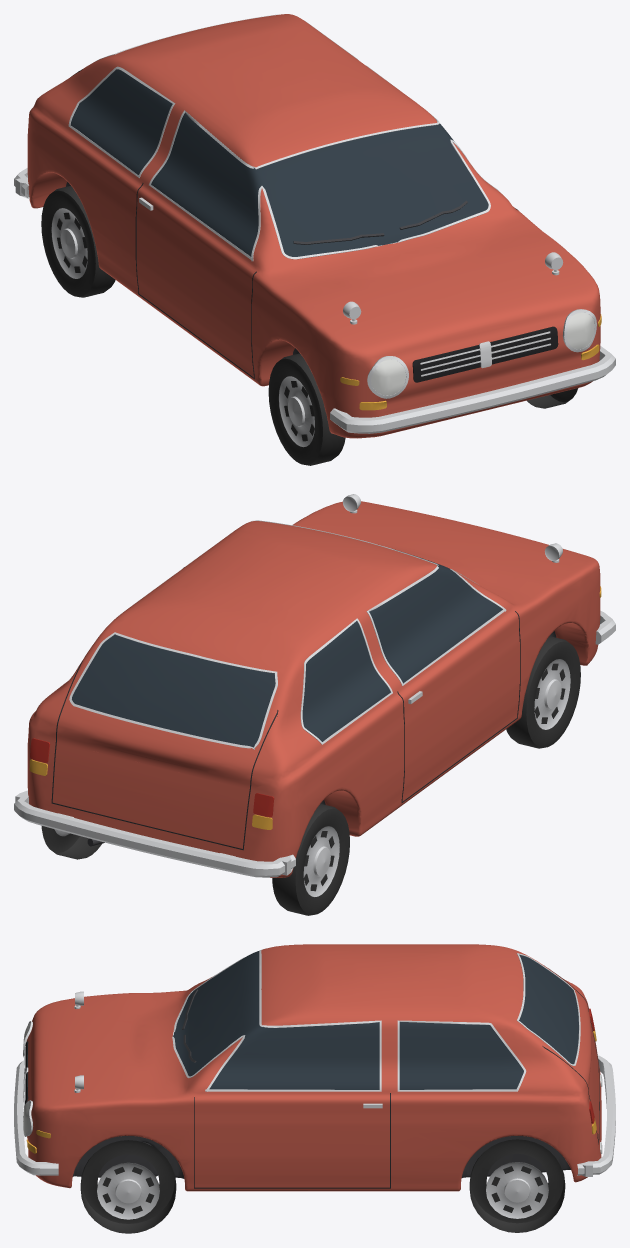
File: civic.glb
3 renders of one model, top to bottom at view 1: azimuth 30°, elevation 25°; view 2: azimuth 150°, elevation 25°; view 3: azimuth 270°, elevation 25°, orthographic. The views are drawn at different scales.
Parts seen in each view (by area): view 1: paint, glass, trim, wheel_fr, wheel_rr, headlights; view 2: paint, glass, trim, wheel_rr, wheel_fr, wheel_rl, taillights; view 3: paint, glass, trim, wheel_rl, wheel_fl.
Boxes of the visible parts, left/top/right/bottom form: paint: left=27, top=14, right=600, bottom=438; glass: left=70, top=69, right=488, bottom=256; trim: left=14, top=14, right=615, bottom=433; wheel_fr: left=268, top=353, right=345, bottom=465; wheel_rr: left=41, top=185, right=115, bottom=297; headlights: left=371, top=312, right=594, bottom=395; paint: left=27, top=501, right=600, bottom=877; glass: left=72, top=549, right=502, bottom=748; trim: left=14, top=494, right=615, bottom=877; wheel_rr: left=272, top=803, right=349, bottom=915; wheel_fr: left=506, top=636, right=580, bottom=748; wheel_rl: left=41, top=826, right=101, bottom=859; taillights: left=30, top=738, right=274, bottom=817; paint: left=26, top=944, right=601, bottom=1191; glass: left=173, top=951, right=578, bottom=1091; trim: left=14, top=948, right=615, bottom=1188; wheel_rl: left=469, top=1139, right=565, bottom=1232; wheel_fl: left=80, top=1140, right=176, bottom=1233.
Bounding box in the file's own units: 1.51 × 1.33 × 3.4.
